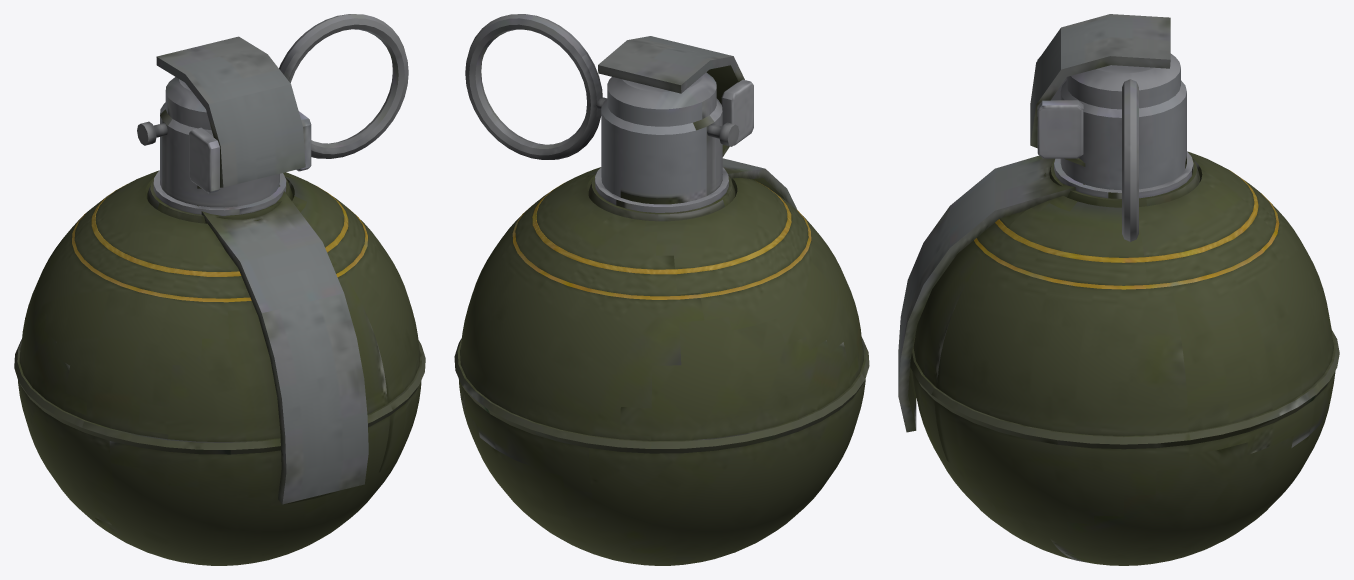
Rendered from throw_frag.glb.
3 renders of one model, left to right at view 1: azimuth 30°, elevation 25°; view 2: azimuth 150°, elevation 25°; view 3: azimuth 270°, elevation 25°, orthographic. The views are drawn at different scales.
Parts seen in each view (by area): view 1: body, spoon_mesh, pin_mesh; view 2: body, pin_mesh, spoon_mesh; view 3: body, spoon_mesh, pin_mesh.
Boxes of the visible parts, <box> form: body: <box>14,77,425,565</box>; spoon_mesh: <box>156,36,368,504</box>; pin_mesh: <box>137,14,408,158</box>; body: <box>454,72,869,565</box>; pin_mesh: <box>465,14,739,159</box>; spoon_mesh: <box>598,36,797,209</box>; body: <box>910,53,1339,565</box>; spoon_mesh: <box>898,14,1170,432</box>; pin_mesh: <box>1122,79,1138,241</box>.
Bounding box in the file's own units: 0.0673 × 0.087 × 0.0665.
Materials: 1 (1 with a texture image).
